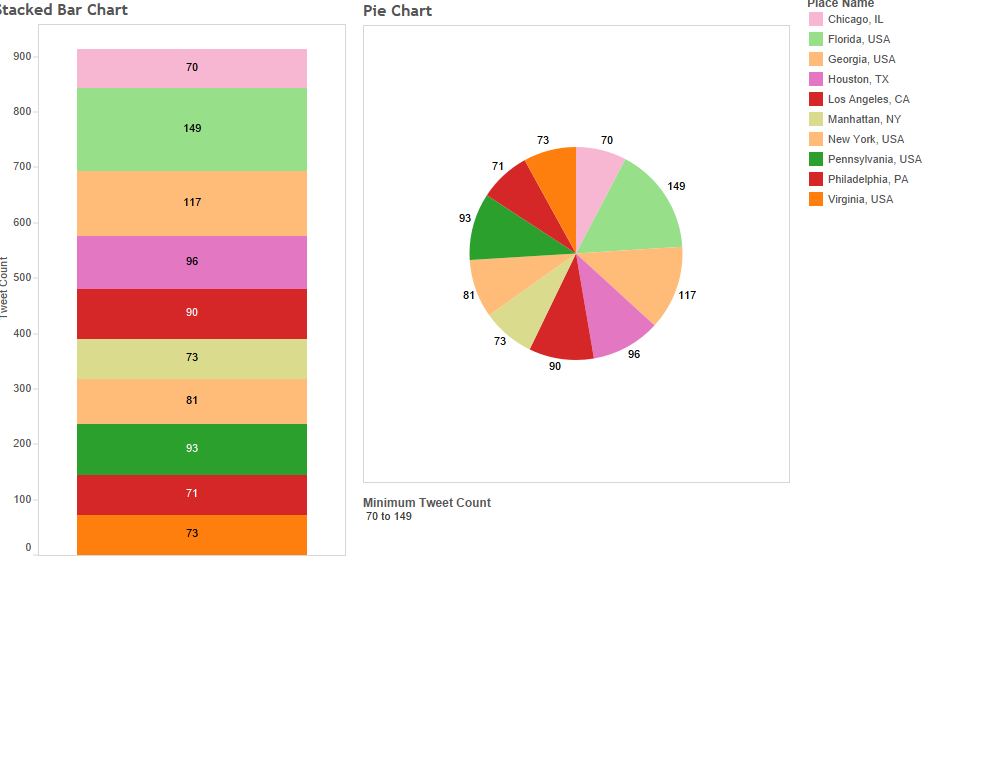

What the dashboard file says about the page in this screenshot:
{"tool":"tableau","page":{"name":"Dashboard 1","canvas":[1000,800],"ordinal":0},"visuals":[{"type":"legend","title":"Sheet 1","param":"[textscan.0kuyrer07aq1az1cmfcyj06ejh6l].[none:Place_Name:nk]","box":[814,2,176,226]},{"type":"worksheet","title":"Sheet 2","mark":"Automatic","rows":["Tweet_Count"],"box":[2,6,352,568]},{"type":"worksheet","title":"Sheet 1","mark":"Pie","box":[371,7,433,489]},{"type":"filter","title":"Sheet 1","param":"[textscan.0kuyrer07aq1az1cmfcyj06ejh6l].[none:Tweet_Count:qk]","box":[371,503,428,69]}]}

Visuals, with their boxes in screenshot pixels (x1, y1, x2, y2), scaled from the page's 1000x800 canvas onto the 984x784 screenshot:
"Sheet 1" legend: [x1=801, y1=2, x2=974, y2=223]
"Sheet 2" worksheet: [x1=2, y1=6, x2=348, y2=563]
"Sheet 1" worksheet (Pie marks): [x1=365, y1=7, x2=791, y2=486]
"Sheet 1" filter: [x1=365, y1=493, x2=786, y2=561]
